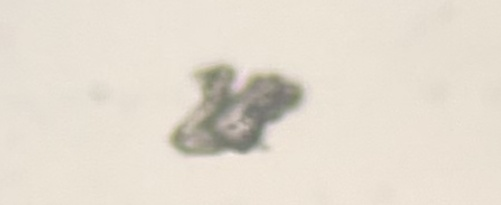microplastic: (169, 65, 301, 152)
